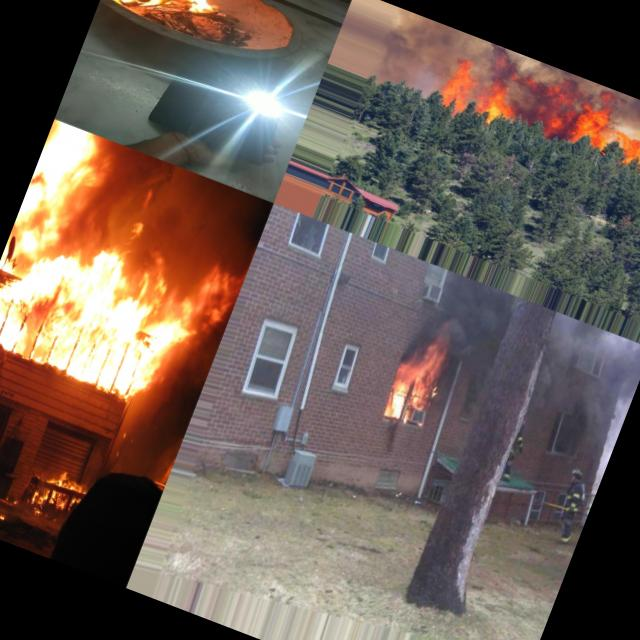fire: (0, 118, 250, 442), (432, 51, 525, 126), (376, 338, 446, 434), (571, 102, 640, 176), (24, 463, 91, 531), (115, 0, 223, 37)
smoke: (448, 30, 640, 149), (525, 315, 640, 447), (399, 266, 516, 384), (374, 8, 457, 97), (508, 80, 583, 144)
